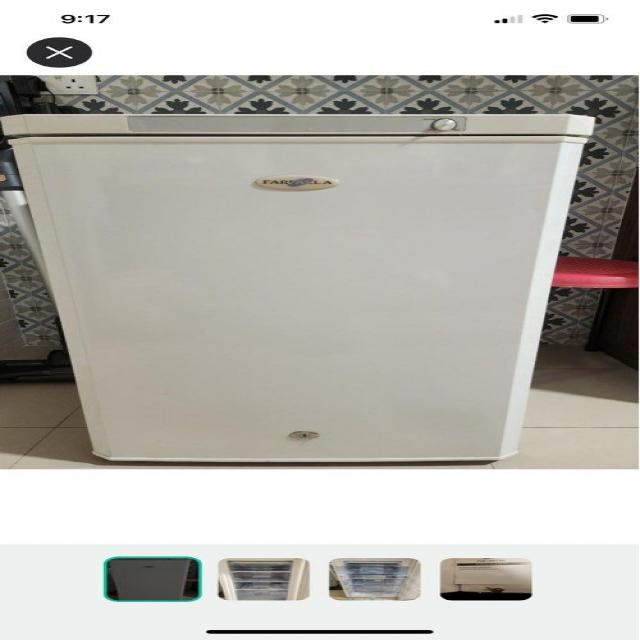refrigerator: (0, 112, 582, 469)
